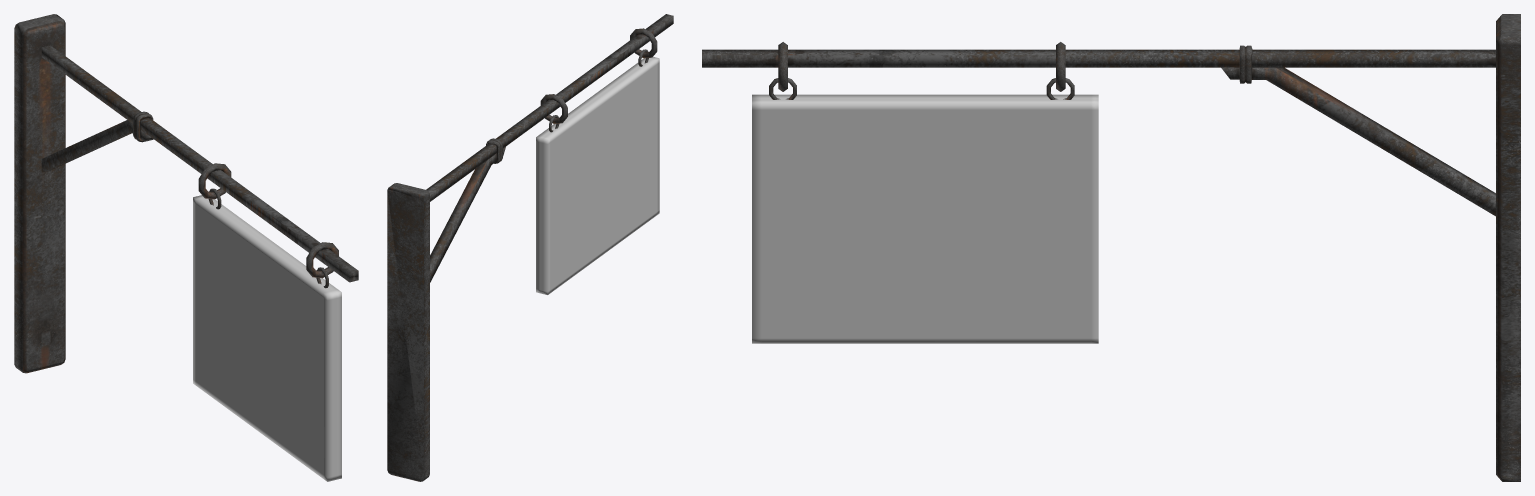
File: SignBlacksmith_mdl.fbx
3 renders of one model, left to right at view 1: azimuth 30°, elevation 25°; view 2: azimuth 150°, elevation 25°; view 3: azimuth 270°, elevation 25°, orthographic. The views are drawn at different scales.
Parts seen in each view (by area): view 1: SignBlacksmith_LOD0; view 2: SignBlacksmith_LOD0; view 3: SignBlacksmith_LOD0.
Part boxes in pixels (x1=…): SignBlacksmith_LOD0: x1=14, y1=14, x2=358, y2=481; SignBlacksmith_LOD0: x1=387, y1=14, x2=673, y2=481; SignBlacksmith_LOD0: x1=702, y1=14, x2=1520, y2=481.
Size of the model in its own units: 16.19 by 121 by 202.
